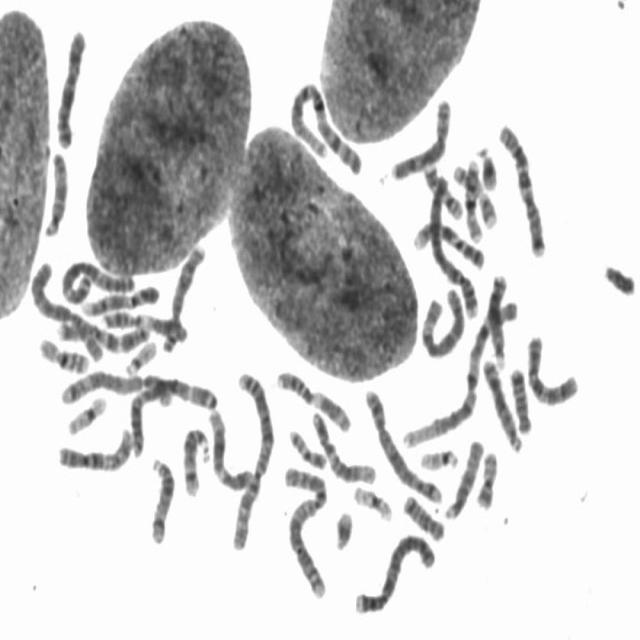A1: (398, 288, 520, 452), (284, 73, 365, 177)
A2: (225, 362, 276, 552), (279, 456, 331, 602)
A3: (124, 366, 220, 458), (57, 250, 139, 306)
B4: (420, 157, 480, 321), (349, 524, 438, 617)
B5: (360, 380, 444, 507), (55, 361, 177, 410)
C10: (521, 324, 582, 408), (51, 419, 136, 475)
C11: (272, 361, 354, 434), (98, 302, 190, 343)
C12: (307, 401, 379, 486), (203, 400, 254, 492)
C6: (26, 252, 107, 364), (415, 278, 467, 361)
C7: (494, 114, 548, 258), (53, 312, 153, 354)
C8: (386, 89, 454, 183), (157, 237, 208, 356)
C9: (408, 212, 488, 272), (78, 277, 162, 317)
D13: (478, 351, 526, 454), (482, 264, 510, 371)
D14: (144, 448, 177, 546), (178, 419, 211, 498)
D15: (440, 430, 485, 521), (39, 142, 71, 240)
E16: (34, 329, 92, 375), (461, 150, 485, 245)
E17: (449, 156, 500, 230), (418, 155, 466, 221)
E18: (398, 486, 446, 542), (504, 358, 534, 436)
F19: (62, 386, 109, 437), (349, 476, 395, 524)
F20: (284, 420, 328, 470), (471, 442, 500, 510)
G21: (473, 138, 500, 192), (329, 501, 356, 552)
G22: (120, 333, 159, 376), (415, 440, 461, 472)
X: (50, 19, 90, 150)
Y: (599, 254, 638, 297)
